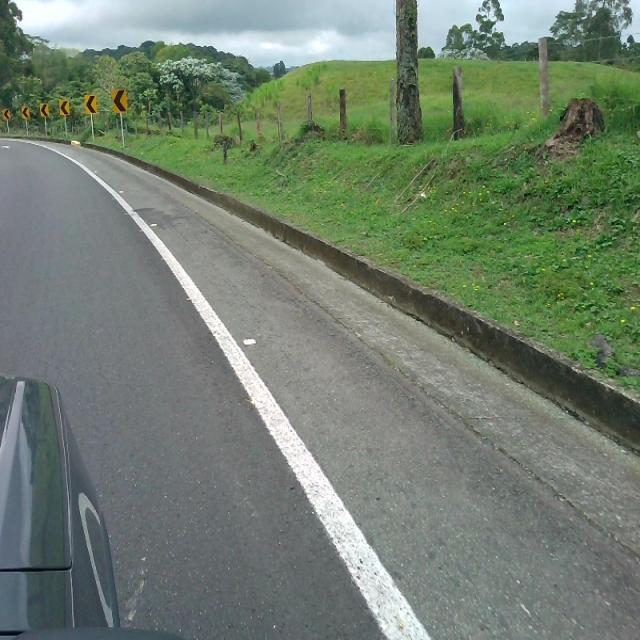DITCH: (2, 1, 638, 638), (44, 49, 638, 638), (1, 135, 638, 638)
